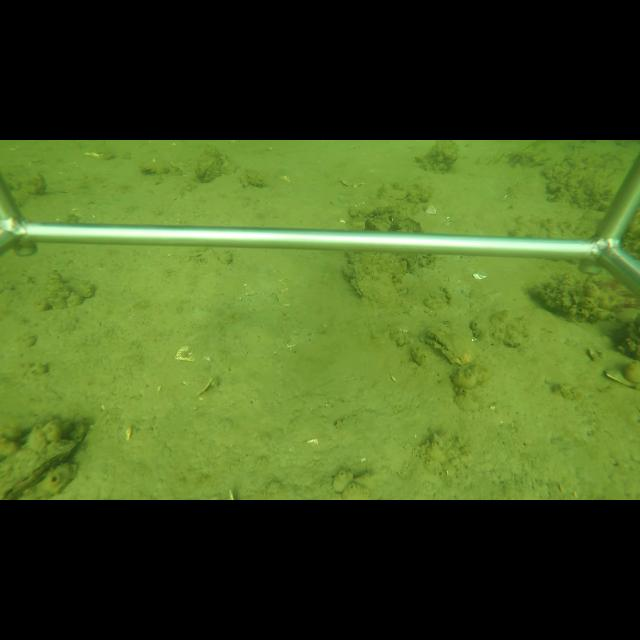Oyster-Closed: (0, 439, 78, 500), (350, 254, 400, 309)
Oyster-Open: (423, 320, 484, 368)
